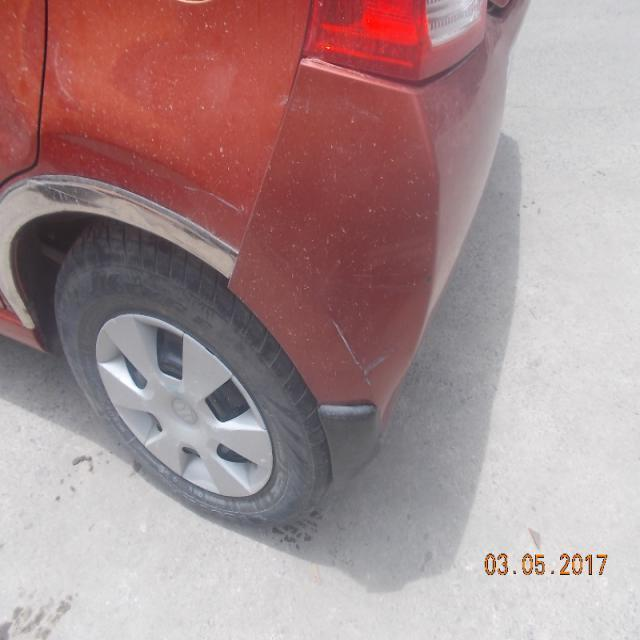rear-bumper-dent: (218, 90, 472, 514)
